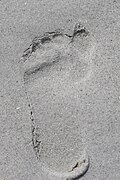human_footprint: (21, 23, 94, 179)
